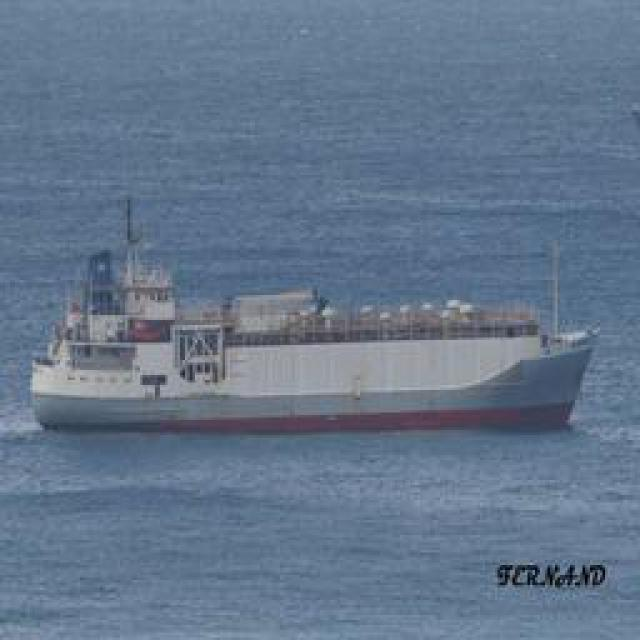Ship: (33, 248, 591, 446)
